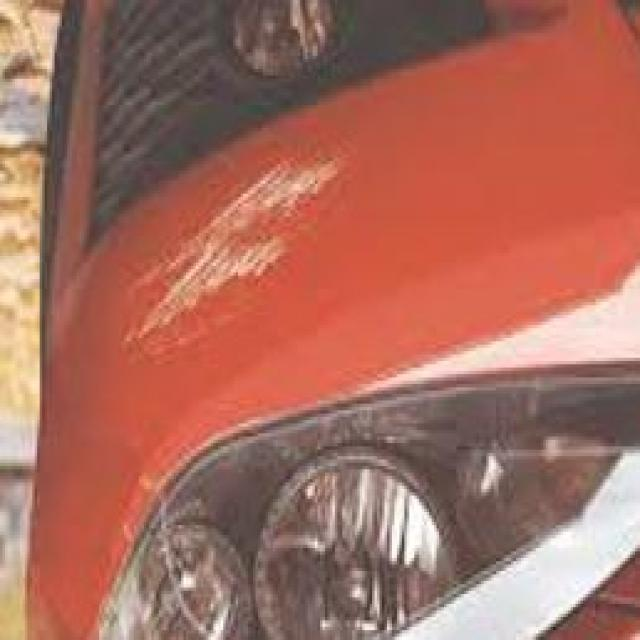scratch: (106, 133, 352, 366)
